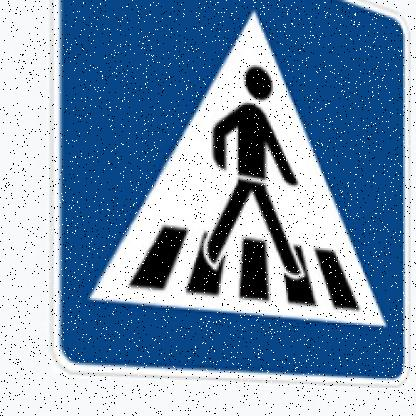Pedestrian Crossing: (46, 1, 415, 391)
